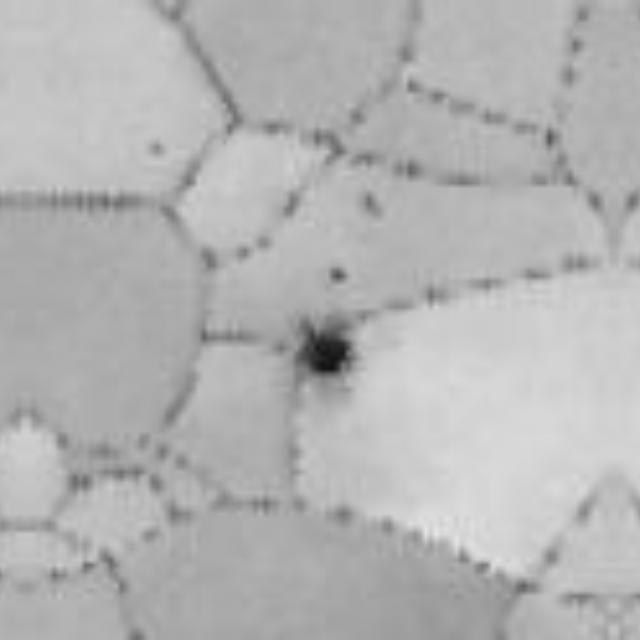good_void: (298, 328, 362, 382), (364, 190, 384, 223), (324, 264, 349, 290), (149, 143, 167, 160)
